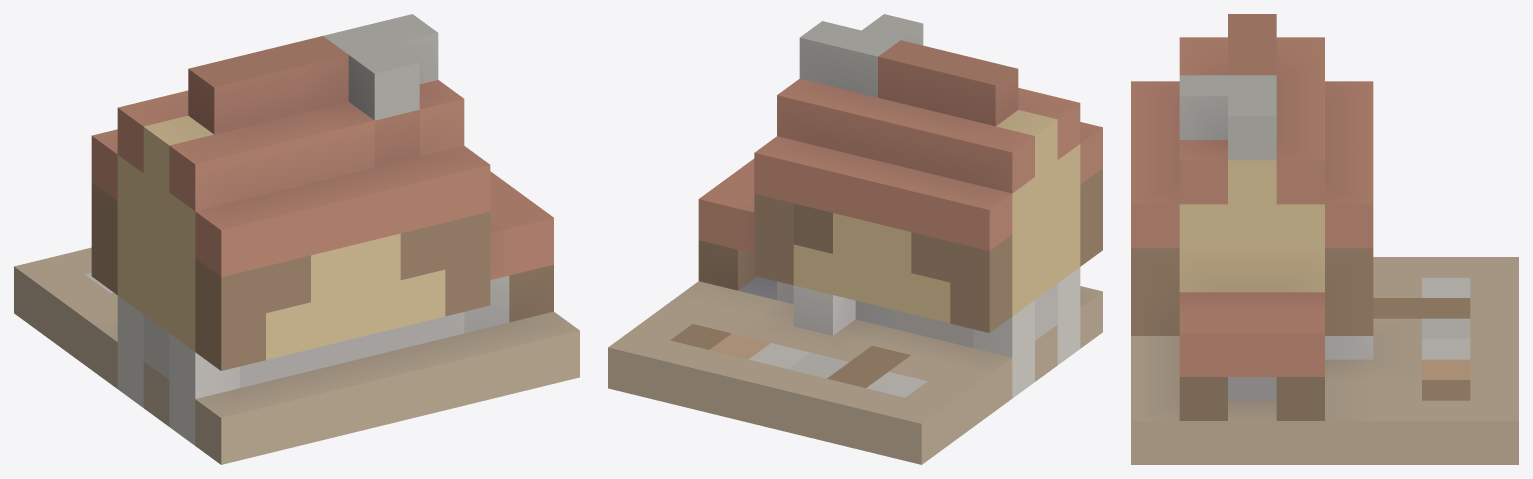
Rendered from toolmaker.lite.glb.
3 views of the same model, side by side, from view 1: azimuth 30°, elevation 25°; view 2: azimuth 150°, elevation 25°; view 3: azimuth 270°, elevation 25° (orthographic). The views are drawn at different scales.
Parts seen in each view (by area): view 1: toolmaker; view 2: toolmaker; view 3: toolmaker.
Part boxes in pixels (x1=…): toolmaker: x1=14, y1=14, x2=579, y2=464; toolmaker: x1=608, y1=14, x2=1102, y2=464; toolmaker: x1=1131, y1=14, x2=1518, y2=464.
Bounding box in the file's own units: 4 × 3.5 × 4.
